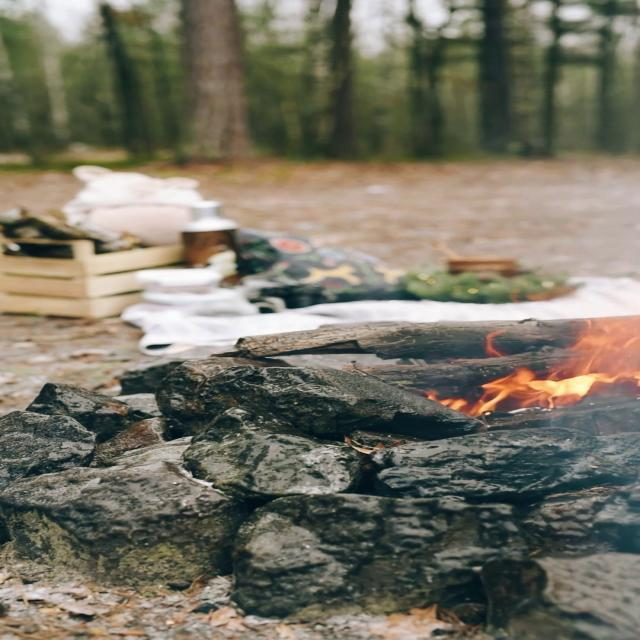Fire: (470, 273, 640, 421)
